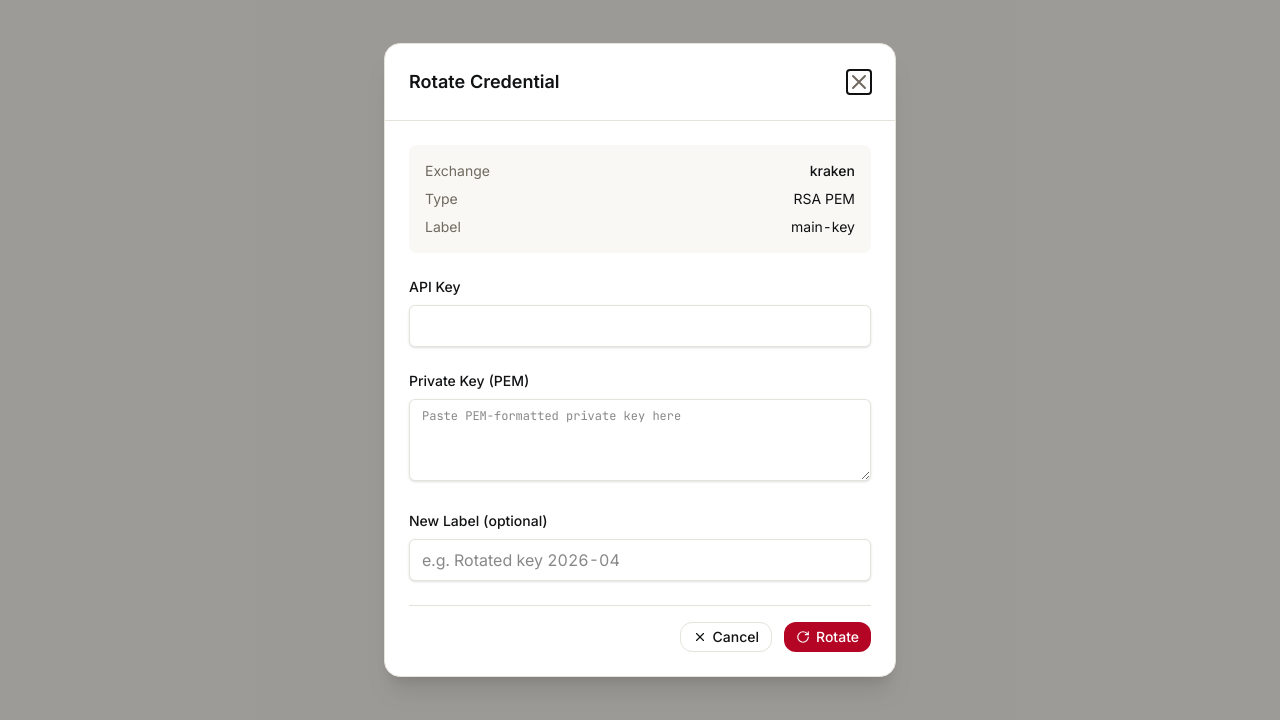
Test: RotateDialog › clears textarea field error when typing in rsa_pem field
The image size is (1280, 720).
Click the button "Rotate" at point(828, 637), box x1=784 y1=622 x2=871 y2=652
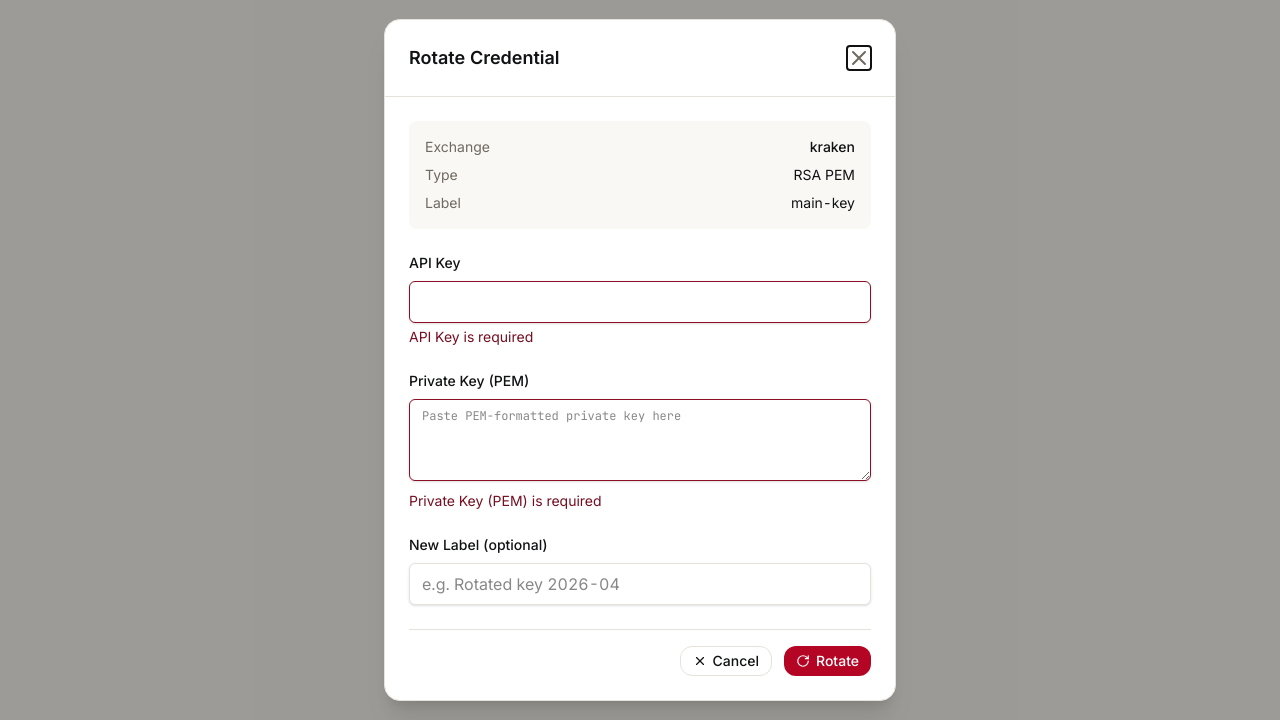
Now the text "Private Key (PEM) is required" is shown, box x1=409 y1=492 x2=602 y2=509
Type "-----BEGIN" into the text box labelled "Private Key (PEM)" at point(640, 440), box x1=409 y1=399 x2=871 y2=481
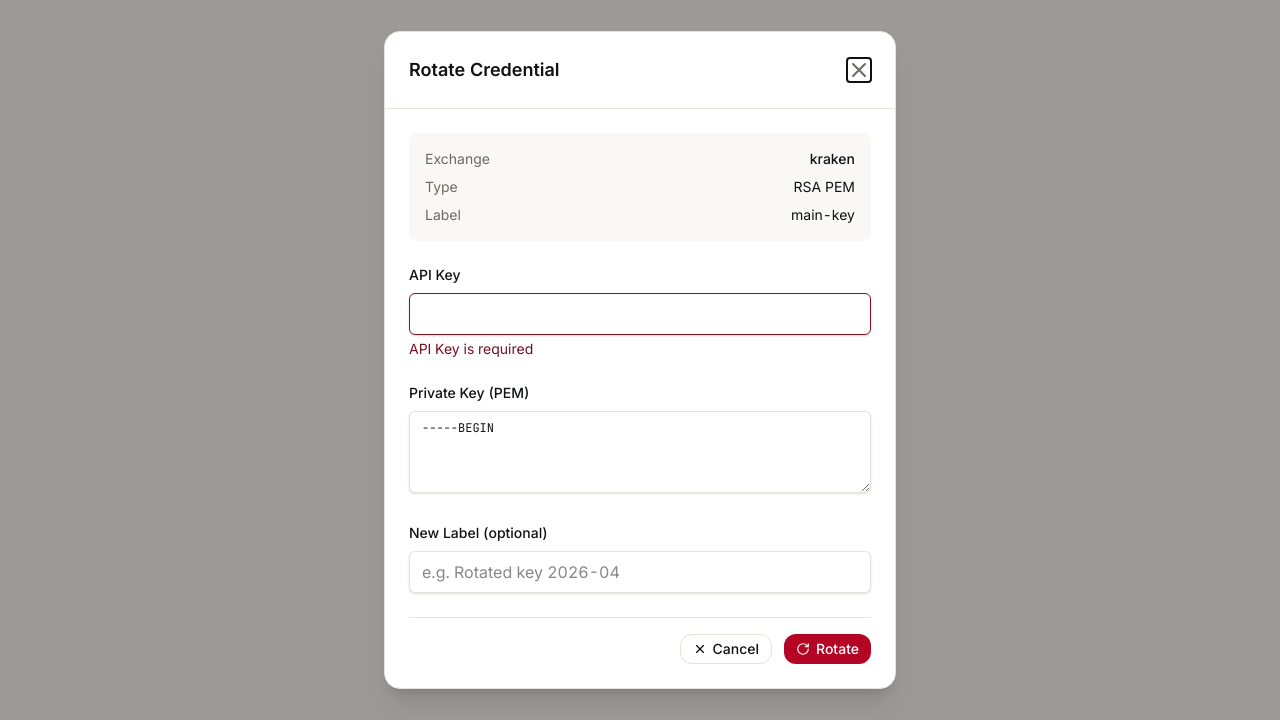
Now the text "Private Key (PEM) is required" is gone
